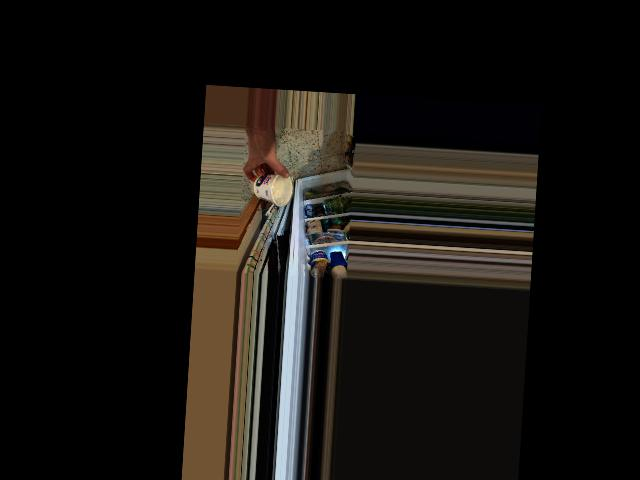cotage: (253, 170, 297, 206)
